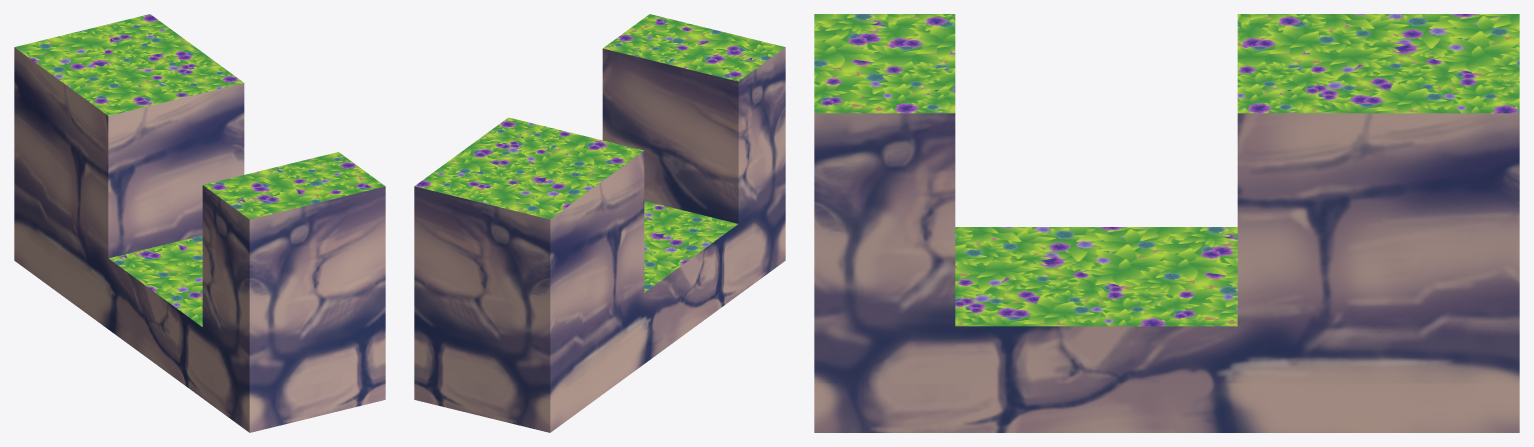
The model's file is block_09.fbx.
The picture shows the model from 3 angles, left to right: view 1: azimuth 30°, elevation 25°; view 2: azimuth 150°, elevation 25°; view 3: azimuth 270°, elevation 25°; orthographic projection. The views are drawn at different scales.
Parts seen in each view (by area): view 1: block_09.001; view 2: block_09.001; view 3: block_09.001.
Part boxes in pixels (left/top/right/bottom): block_09.001: left=14, top=14, right=385, bottom=432; block_09.001: left=414, top=14, right=785, bottom=432; block_09.001: left=814, top=14, right=1519, bottom=432.
Bounding box in the file's own units: 400 × 600 × 1200.
Materials: 2 (2 with a texture image).
